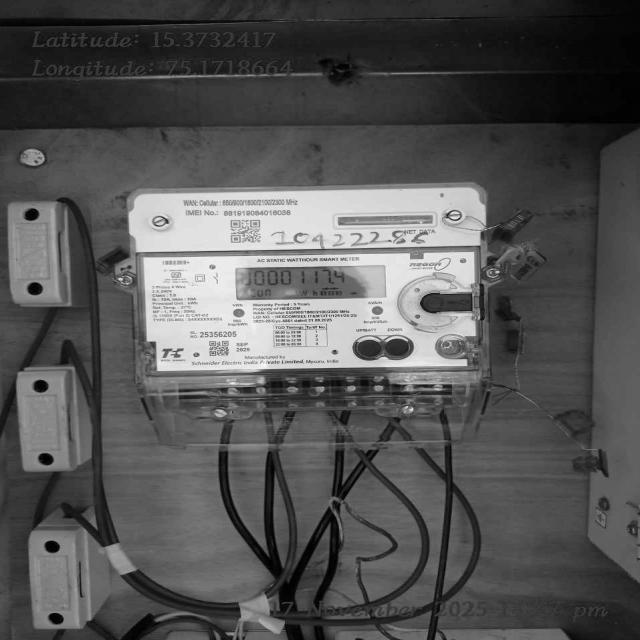meter: (130, 188, 493, 374)
